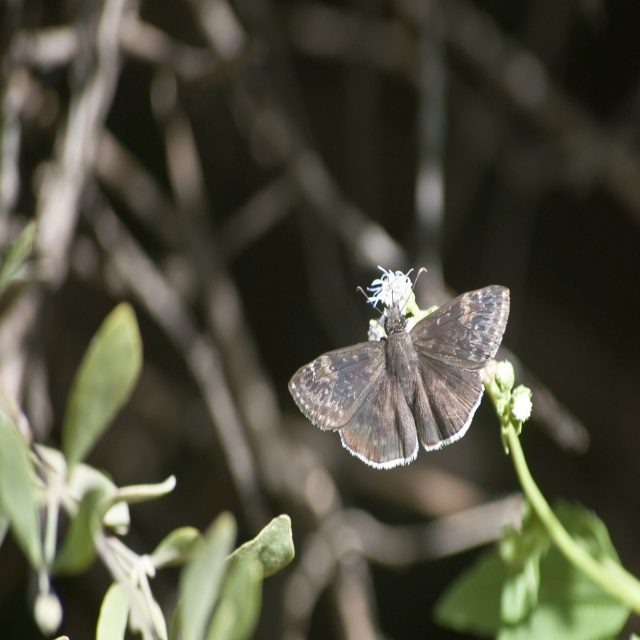Butterfly: (288, 264, 509, 471)
